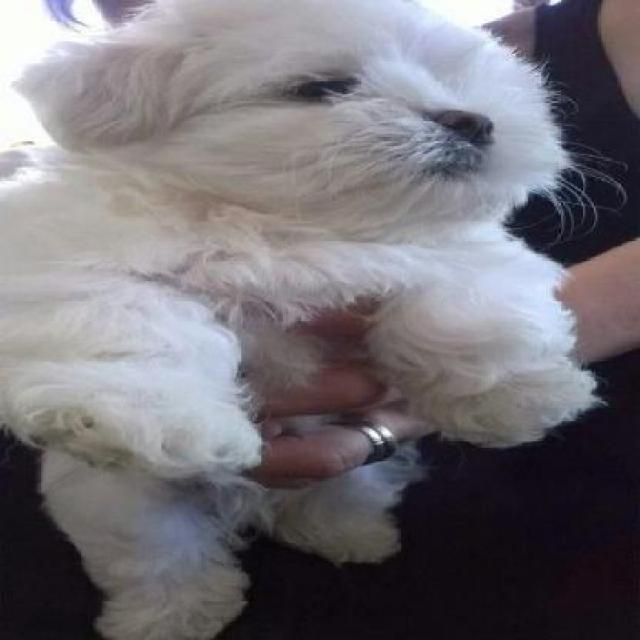Dog: (0, 0, 611, 638)
